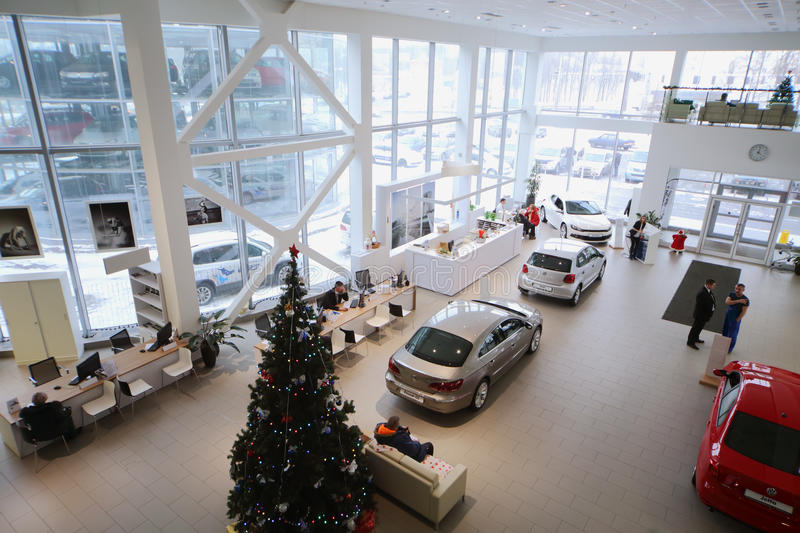car: (690, 359, 800, 533), (383, 299, 548, 414), (518, 237, 606, 306), (540, 191, 613, 242)
